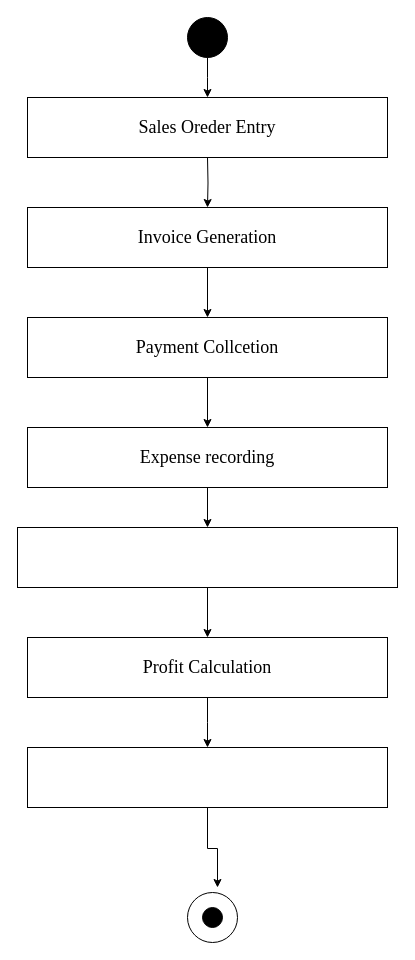
Image size: 415x960. Some labels were removed from this diagram. The shapes that lost their labels are listed below. From the top down, each one's box as (x1, y1, x2, y2) in pixels, then its label:
(16, 526, 398, 588): Expense Categorization
(26, 746, 388, 808): Financial Reporting
